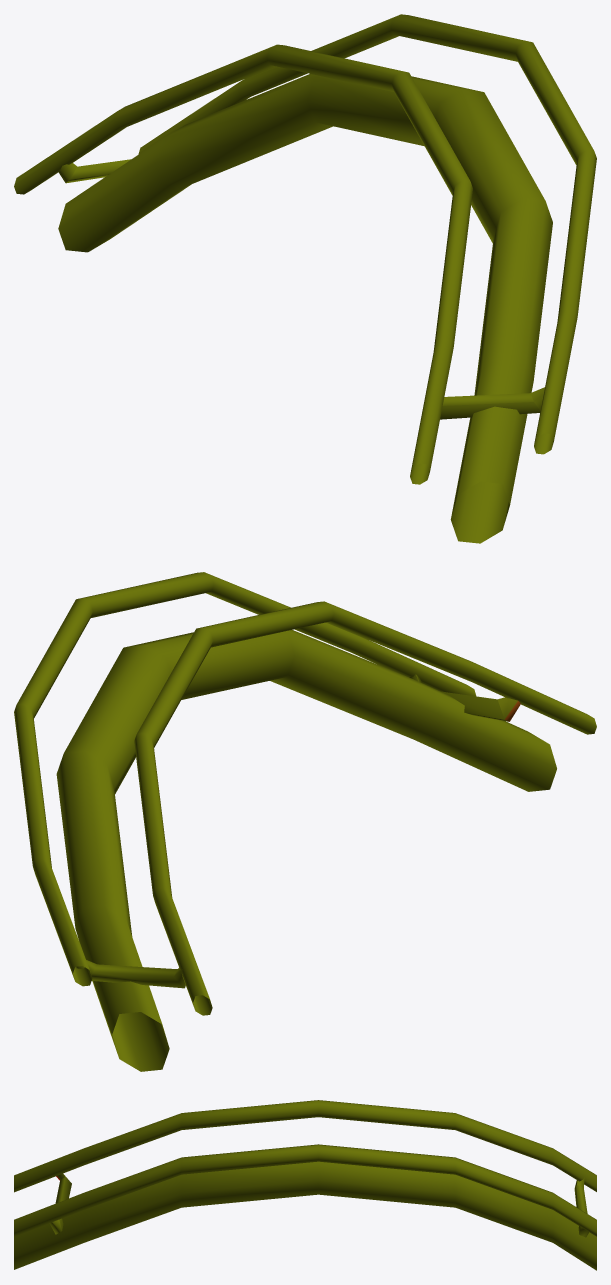
3 renders of one model, top to bottom at view 1: azimuth 30°, elevation 25°; view 2: azimuth 150°, elevation 25°; view 3: azimuth 270°, elevation 25°, orthographic. The views are drawn at different scales.
Visible parts, largest first — view 1: Mesh; view 2: Mesh; view 3: Mesh.
Part boxes in pixels (box(x1,y1,x2,y2)): Mesh: box(14, 14, 596, 543); Mesh: box(14, 572, 596, 1071); Mesh: box(14, 1100, 596, 1270).
Size of the model in its own units: 153 by 127 by 315.
